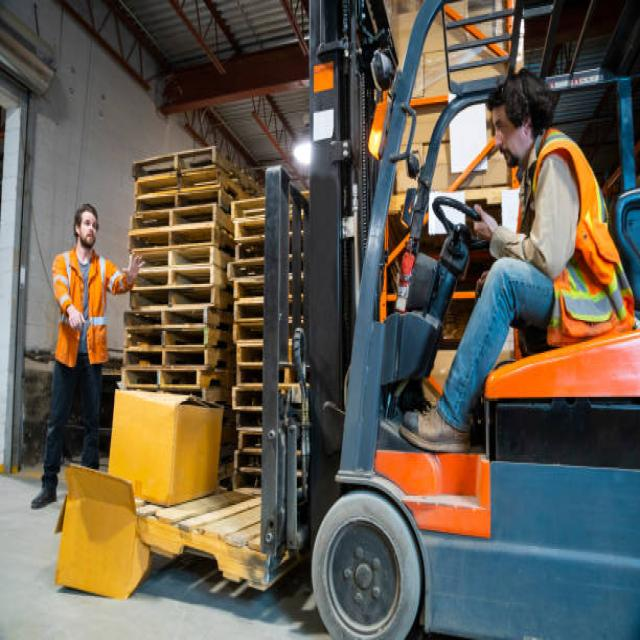Wooden-Pallets: (128, 187, 224, 211), (119, 304, 207, 328), (124, 154, 220, 174), (121, 345, 207, 367), (125, 232, 218, 247)
